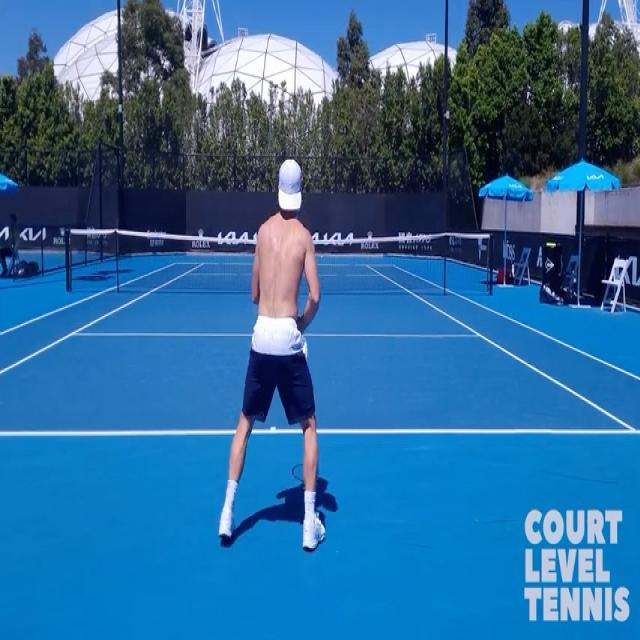ready-position: (216, 163, 324, 540)
